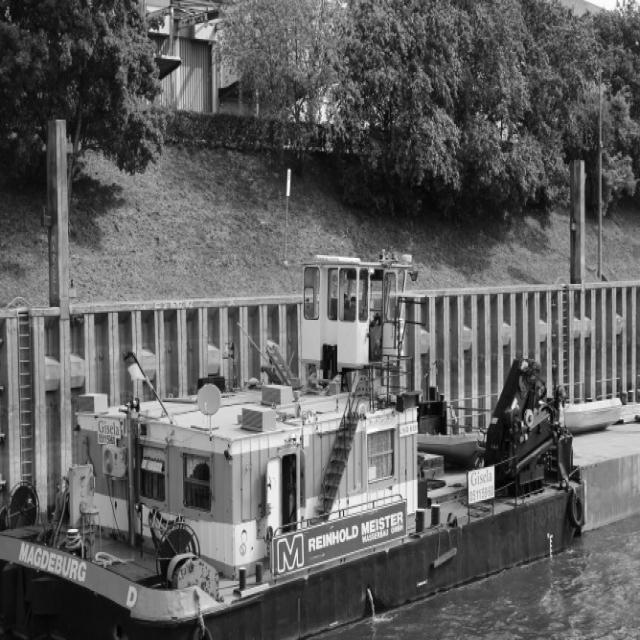tugboat: (1, 252, 595, 640)
